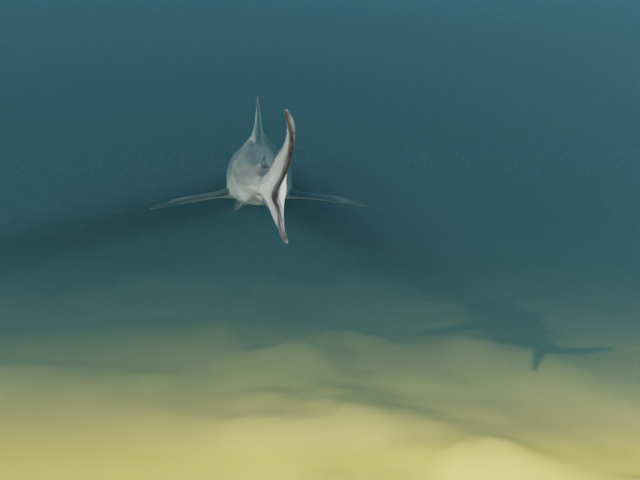Carribean Shark.001: (149, 95, 368, 244)
